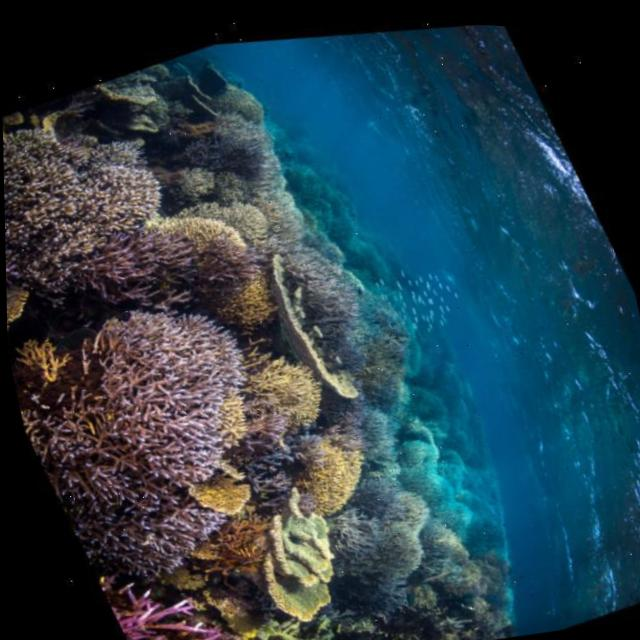Healthy Coral: (6, 318, 237, 612), (59, 258, 286, 509), (1, 62, 209, 334), (27, 165, 279, 370), (250, 227, 364, 410), (232, 479, 363, 633), (273, 402, 382, 524), (228, 323, 333, 442), (169, 443, 275, 534), (103, 586, 275, 640), (193, 507, 278, 585), (6, 318, 83, 397), (203, 62, 273, 136), (5, 280, 31, 341)
